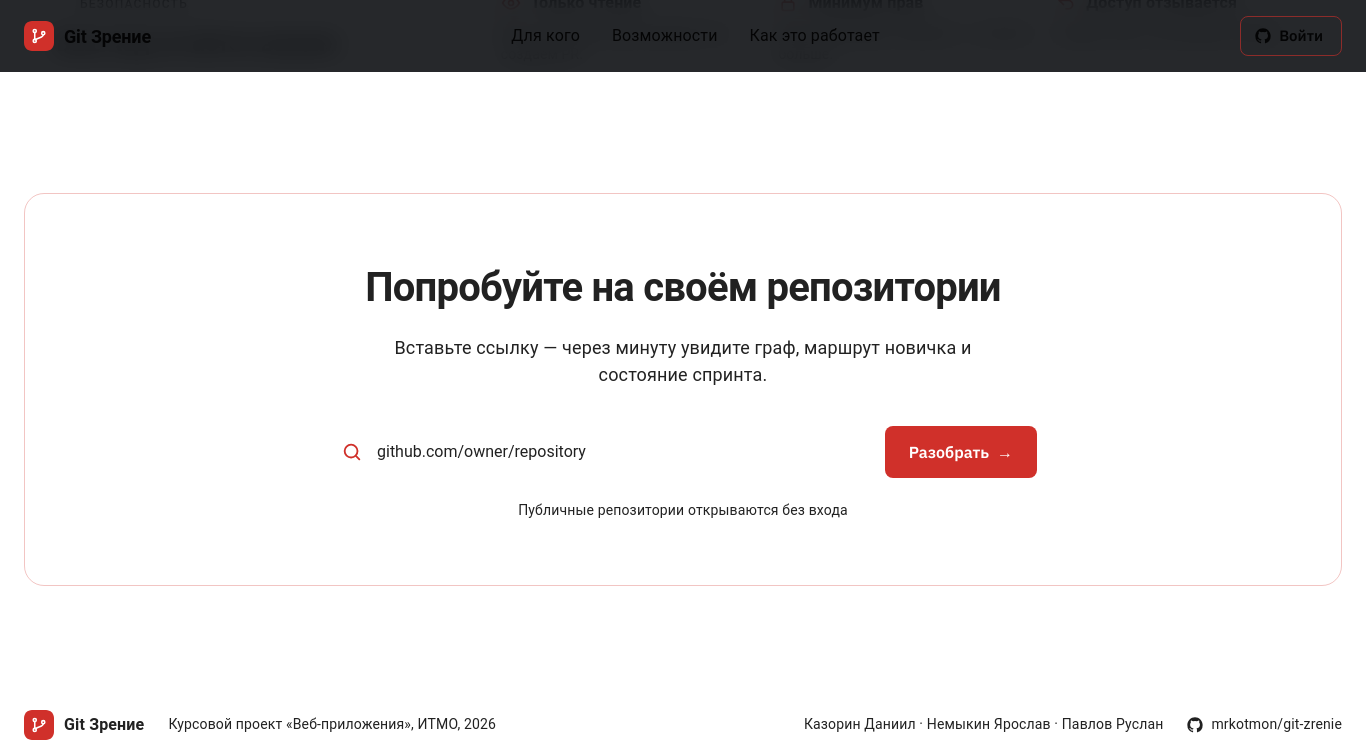
Test: Landing › показывает ошибку для неверной ссылки и сбрасывает её при вводе
(page scrolled)
Type "не ссылка" into the field named "Ссылка на репозиторий GitHub". click: (624, 452)
box: [375,430,873,474]
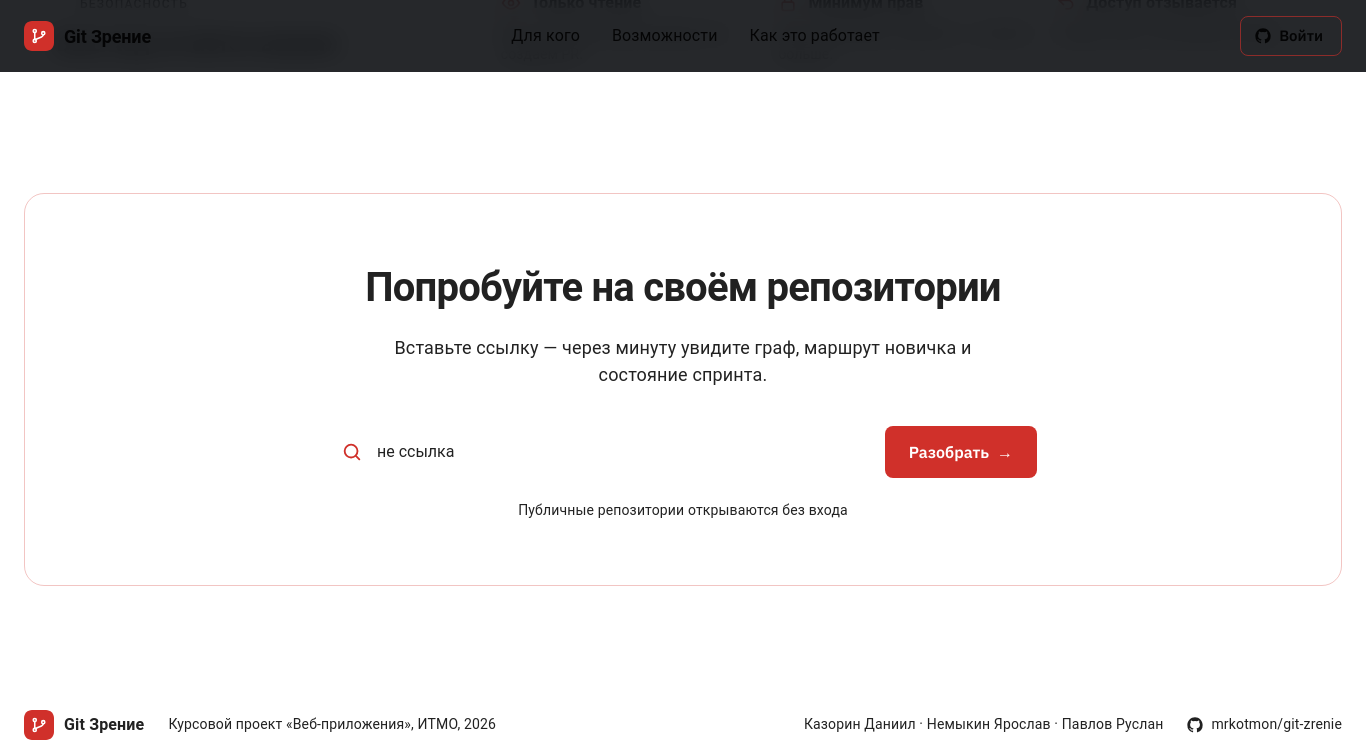
Click the button "Разобрать →". click: (961, 452)
box: [885,426,1037,478]
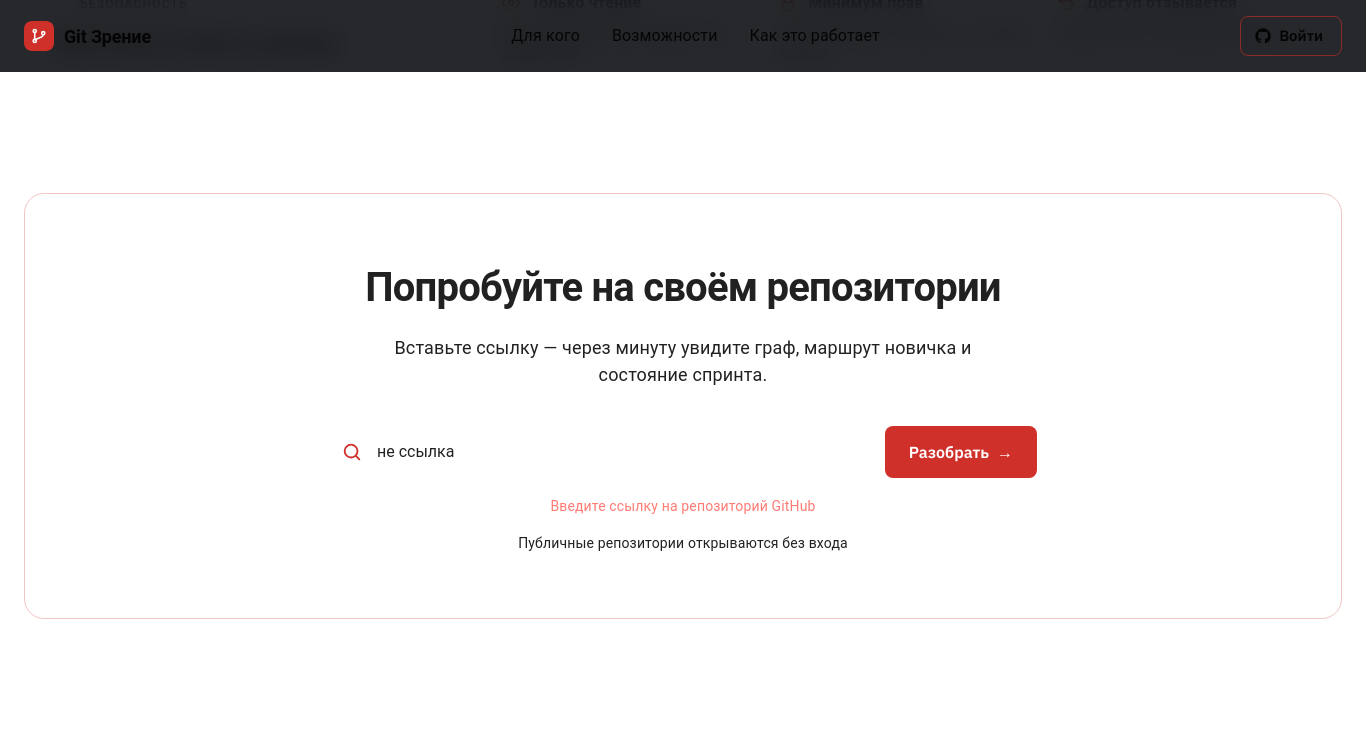
Check: the message reads "Введите ссылку на репозиторий GitHub", box [550,498,816,514]
Replace the text in the field named "Ссылка на репозиторий GitHub" with "gitlab.com/a/b". click: (624, 452)
box: [375,430,873,474]
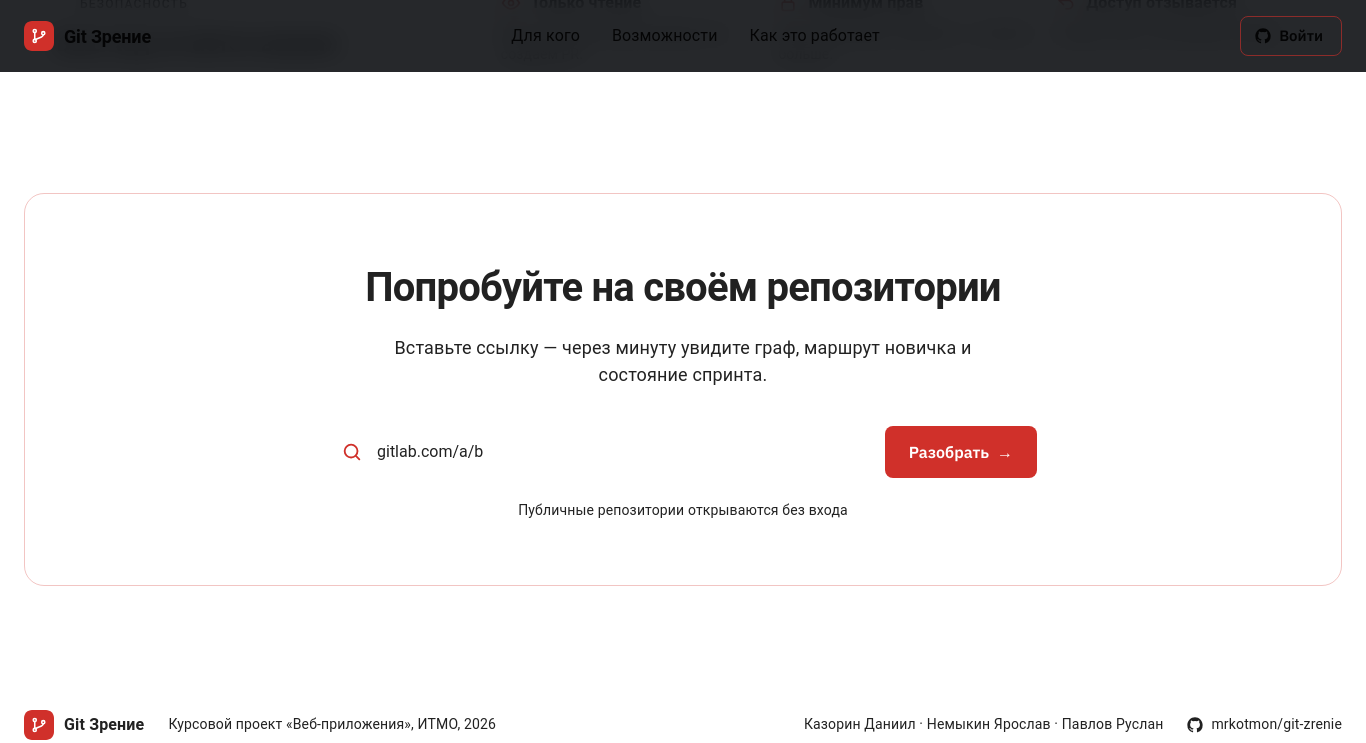
Check: the message "Введите ссылку на репозиторий GitHub" is gone
